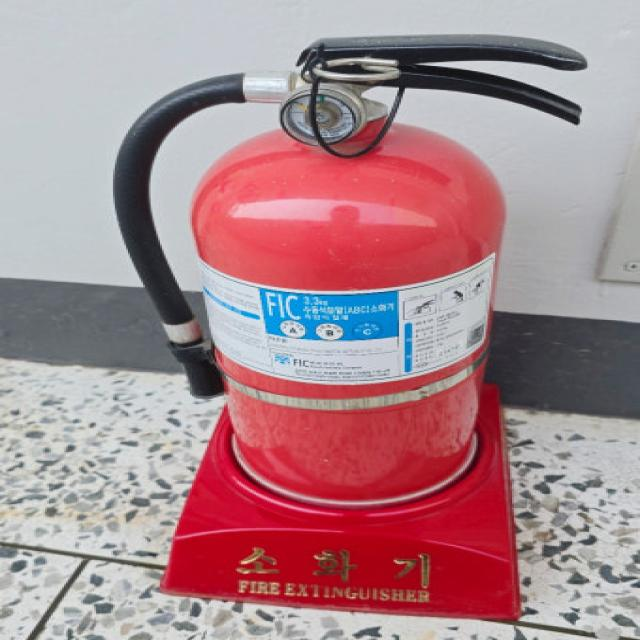pressure gauge: (317, 88, 365, 144)
